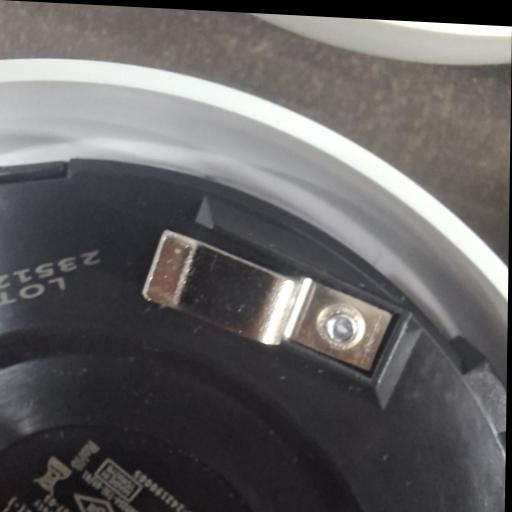yaysiz: (143, 228, 401, 376)
